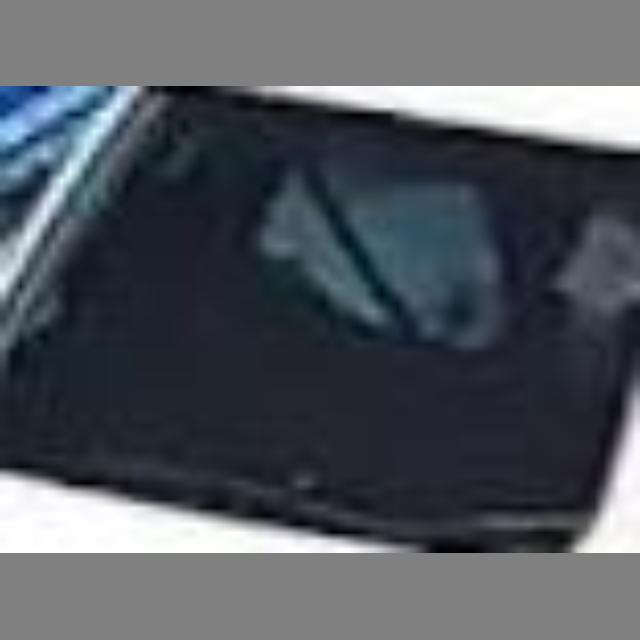pakai: (230, 135, 492, 373)
